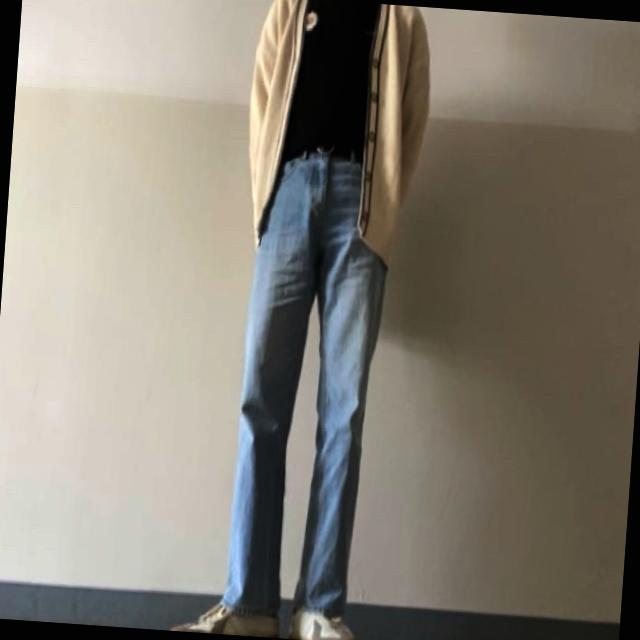cardigan: (237, 0, 437, 273)
denimpants: (221, 143, 396, 626)
